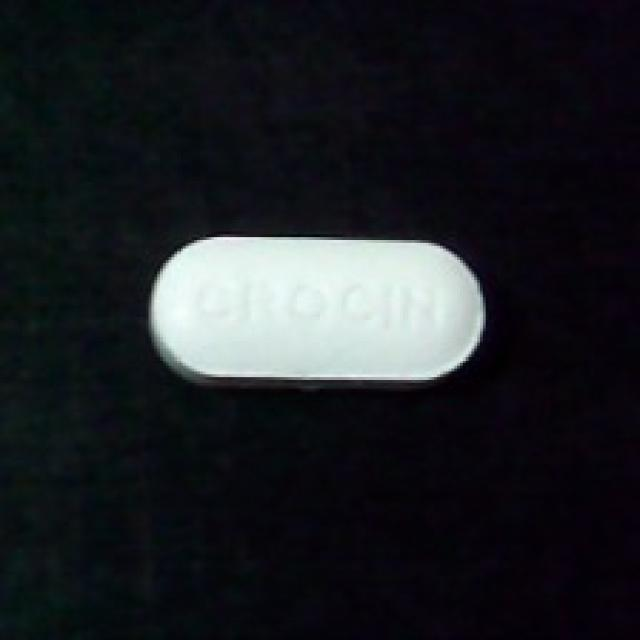no-defect: (140, 220, 489, 391)
